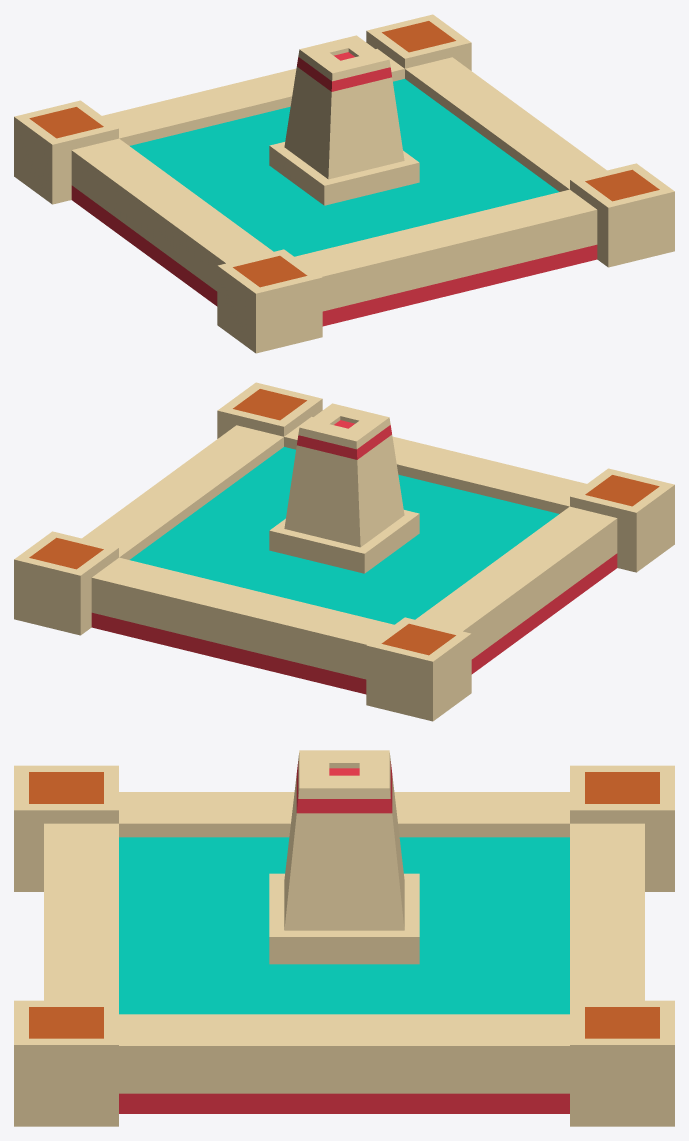
Rendered from Fountain_Decor.fbx.
The picture shows the model from 3 angles, top to bottom: view 1: azimuth 30°, elevation 25°; view 2: azimuth 150°, elevation 25°; view 3: azimuth 270°, elevation 25°; orthographic projection. The views are drawn at different scales.
Parts seen in each view (by area): view 1: Fountain_Decor; view 2: Fountain_Decor; view 3: Fountain_Decor.
Part boxes in pixels (x1,y1,x2,y2): Fountain_Decor: [14, 14, 674, 353]; Fountain_Decor: [14, 382, 674, 721]; Fountain_Decor: [14, 750, 674, 1126].
Size of the model in its own units: 110 by 40 by 110.
